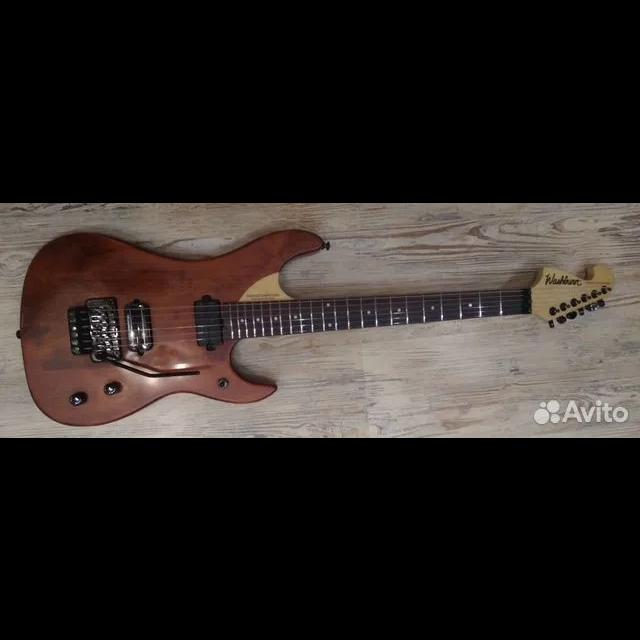Electric-Guitar: (17, 230, 615, 424)
